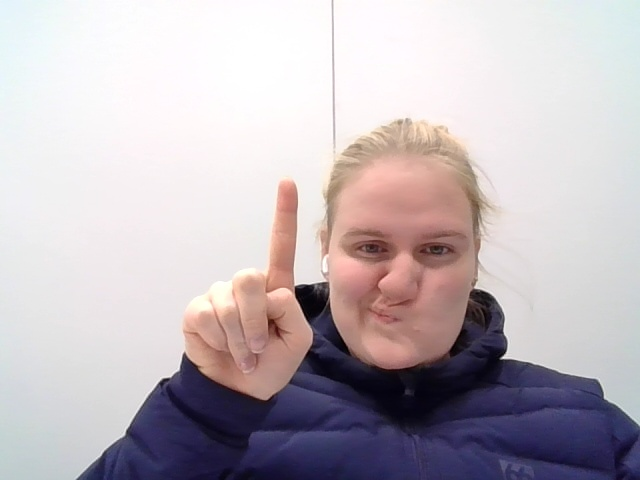up: (175, 179, 317, 413)
